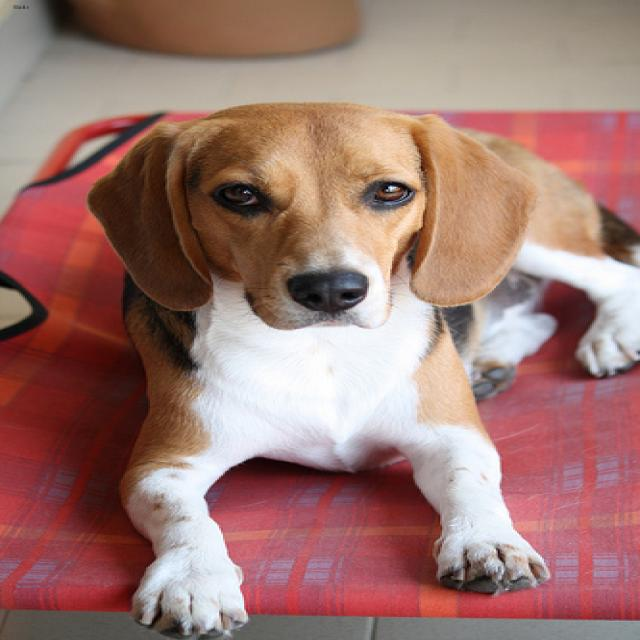dog-beagle: (65, 96, 636, 637)
